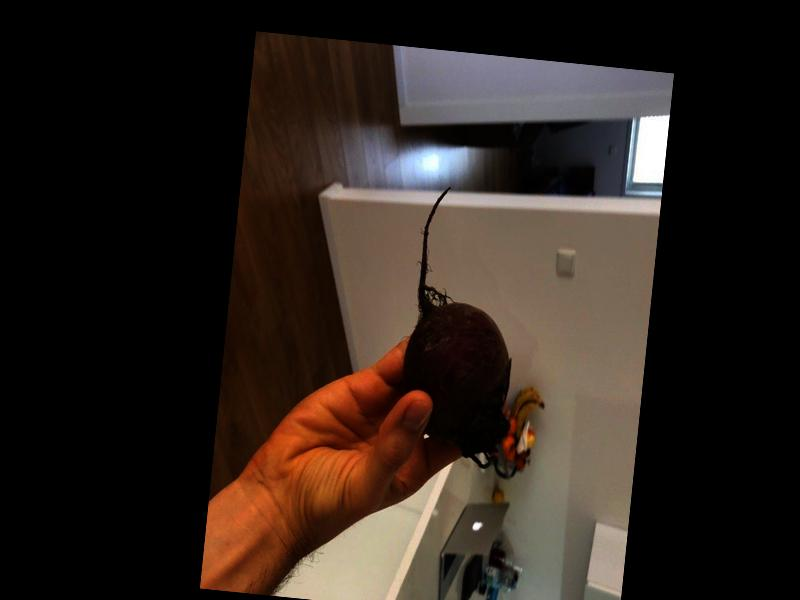Beet: (395, 183, 531, 469)
